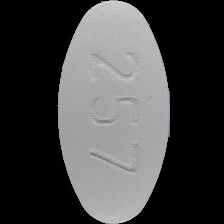61919-533: (0, 0, 224, 224)
